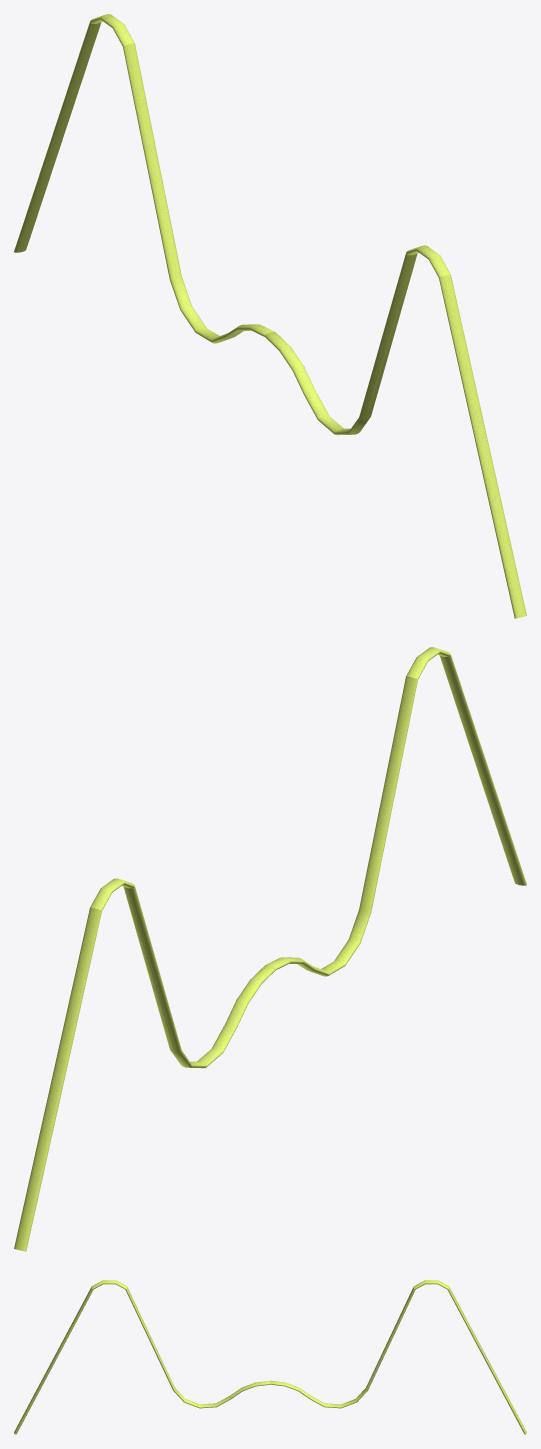
The model's file is original-23.obj.
3 renders of one model, top to bottom at view 1: azimuth 30°, elevation 25°; view 2: azimuth 150°, elevation 25°; view 3: azimuth 270°, elevation 25°, orthographic. The views are drawn at different scales.
Parts seen in each view (by area): view 1: Group19/Component_5_2/Component_5/mesh35/mesh35-geometry#mesh35-; view 2: Group19/Component_5_2/Component_5/mesh35/mesh35-geometry#mesh35-; view 3: Group19/Component_5_2/Component_5/mesh35/mesh35-geometry#mesh35-.
Boxes of the visible parts, box(x1,y1,x2,y2) form: Group19/Component_5_2/Component_5/mesh35/mesh35-geometry#mesh35-: box(14, 14, 526, 618); Group19/Component_5_2/Component_5/mesh35/mesh35-geometry#mesh35-: box(14, 647, 526, 1251); Group19/Component_5_2/Component_5/mesh35/mesh35-geometry#mesh35-: box(14, 1280, 526, 1434).
Size of the model in its own units: 0.00661 by 0.1583 by 0.4829.
